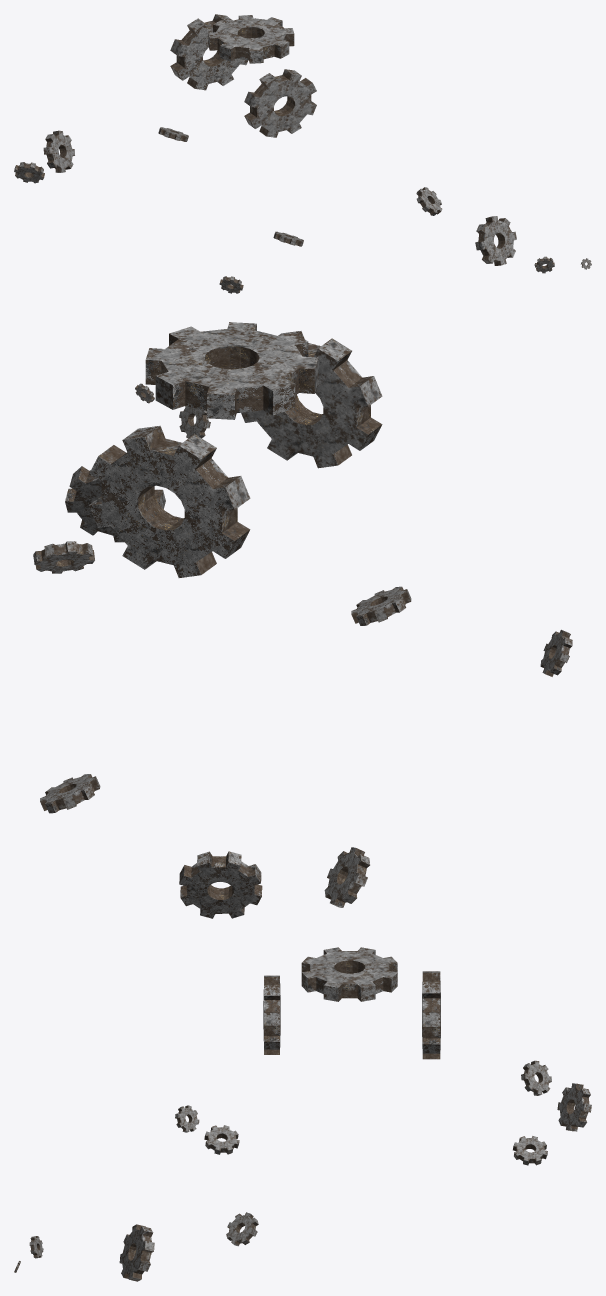
Rendered from GRENA.fbx.
3 renders of one model, top to bottom at view 1: azimuth 30°, elevation 25°; view 2: azimuth 150°, elevation 25°; view 3: azimuth 270°, elevation 25°, orthographic. The views are drawn at different scales.
Parts seen in each view (by area): view 1: Engrenagens; view 2: Engrenagens; view 3: Engrenagens.
Boxes of the visible parts, x1,y1,x2,y2 form: Engrenagens: (14,14,591,293); Engrenagens: (33,322,572,918); Engrenagens: (14,947,591,1281).
Size of the model in its own units: 19326 by 10643 by 24528.
